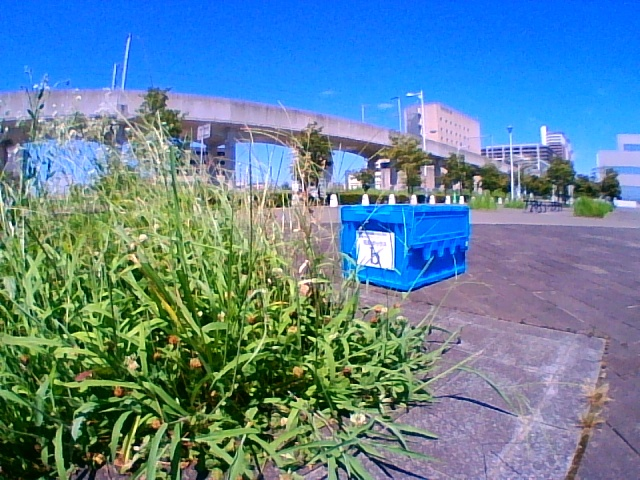blue_box: (342, 205, 466, 272)
tag_b: (359, 234, 393, 266)
